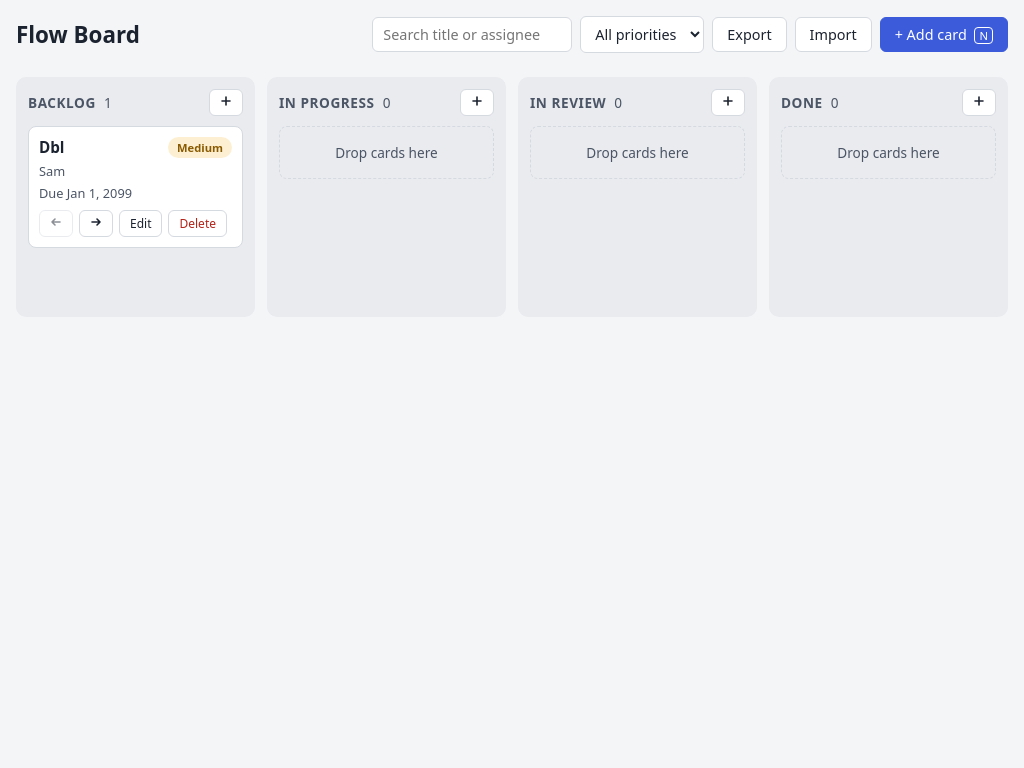
Scenario: editing cards › opens edit on double-click and on Enter when the card itself is focused
Double-click the element "Dbl": (136, 187) [28,126,243,248]
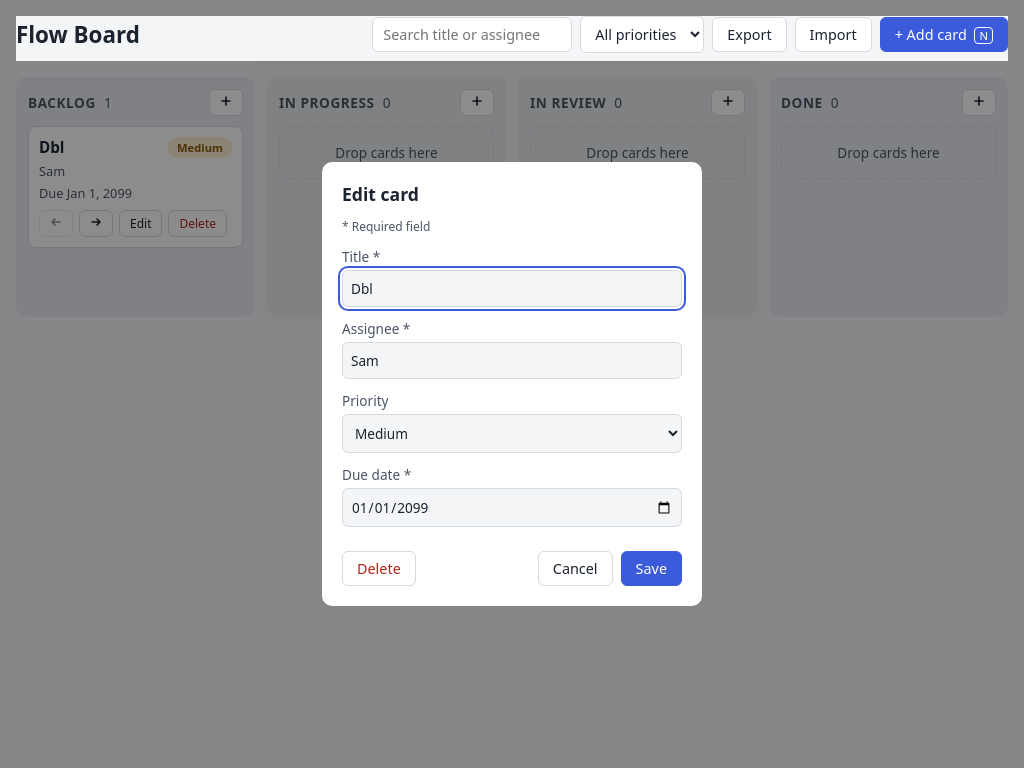
Expected: the dialog is shown, [322,162,702,606]
Press Escape
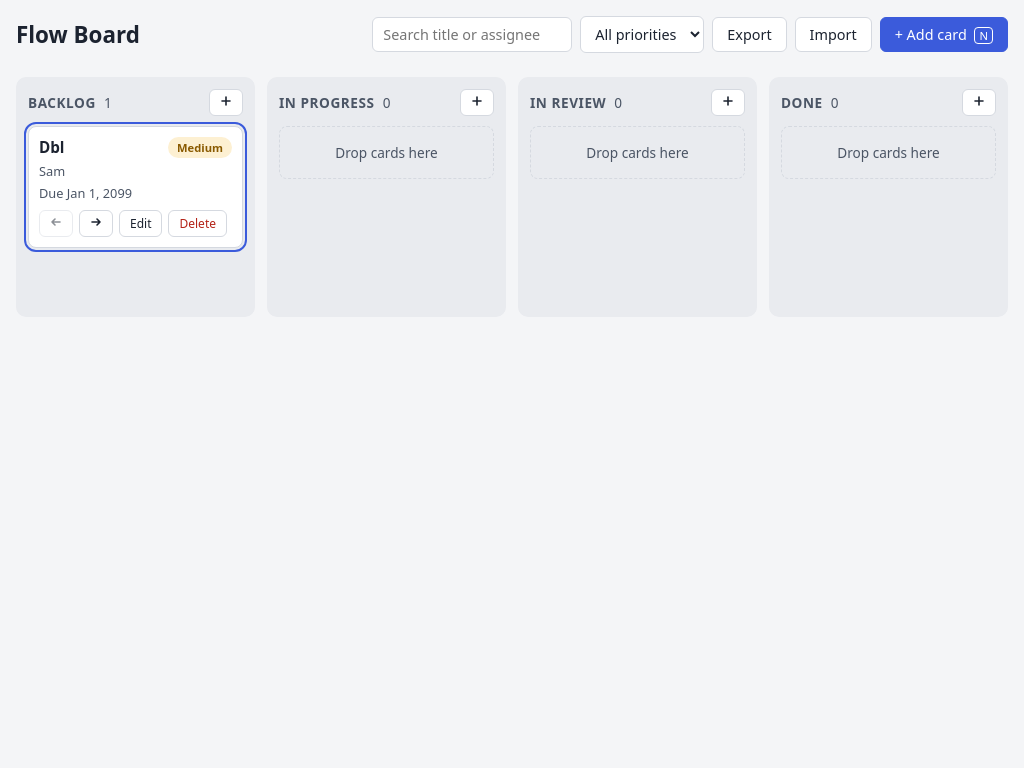
Press Enter
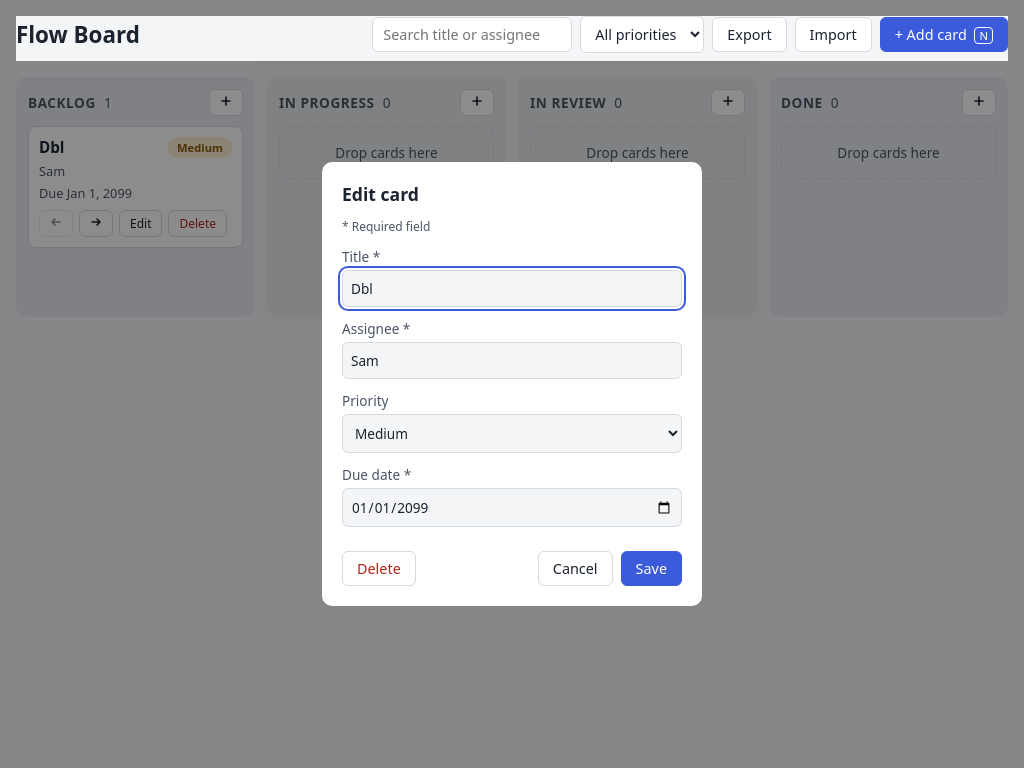
Expected: the dialog is shown, [322,162,702,606]
